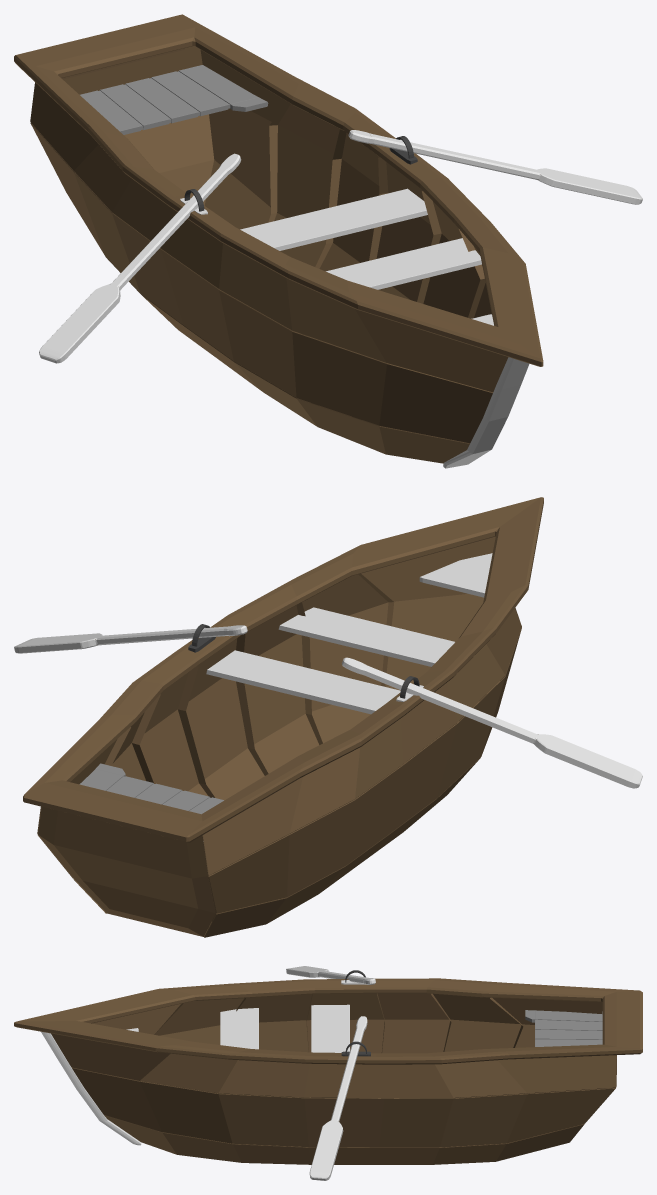
The model's file is Boat_Paddles.glb.
3 renders of one model, top to bottom at view 1: azimuth 30°, elevation 25°; view 2: azimuth 150°, elevation 25°; view 3: azimuth 270°, elevation 25°, orthographic. The views are drawn at different scales.
Parts seen in each view (by area): view 1: Boat Main Shape.007, Boat Top Edge.001, Boat Main Shape.005, Boat Main Shape.006, Cube.001, Boat Main Shape.004, Cube.011, Cube.006, Planks.001, Cube.007, Plane.001; view 2: Boat Main Shape.007, Boat Top Edge.001, Boat Main Shape.005, Boat Main Shape.006, Boat Back.001, Cube.011, Planks.001, Cube.006, Boat Main Shape.004, Cube.001, Cube.007, Front Plank.001; view 3: Boat Main Shape.005, Boat Top Edge.001, Boat Main Shape.006, Boat Main Shape.007, Boat Main Shape.004, Cube.001, Cube.007, Cube.011, Planks.001, Plane.001, Cube.006.
Boxes of the visible parts, box(x1,y1,x2,y2) form: Boat Main Shape.007: box(63, 47, 491, 318); Boat Top Edge.001: box(14, 14, 543, 366); Boat Main Shape.005: box(30, 122, 492, 443); Boat Main Shape.006: box(30, 82, 508, 392); Cube.001: box(80, 65, 268, 134); Boat Main Shape.004: box(106, 257, 469, 463); Cube.011: box(240, 188, 427, 250); Cube.006: box(39, 153, 241, 363); Planks.001: box(326, 238, 481, 289); Cube.007: box(348, 130, 642, 204); Plane.001: box(443, 357, 529, 468); Boat Main Shape.007: box(70, 536, 495, 936); Boat Top Edge.001: box(23, 497, 543, 842); Boat Main Shape.005: box(37, 628, 521, 913); Boat Main Shape.006: box(37, 608, 521, 875); Boat Back.001: box(38, 807, 215, 936); Cube.011: box(206, 650, 400, 714); Planks.001: box(278, 607, 454, 666); Cube.006: box(341, 657, 642, 788); Boat Main Shape.004: box(73, 757, 480, 937); Cube.001: box(79, 763, 223, 841); Cube.007: box(14, 625, 247, 653); Front Plank.001: box(419, 553, 492, 597); Boat Main Shape.005: box(72, 1067, 615, 1147); Boat Top Edge.001: box(14, 978, 642, 1064); Boat Main Shape.006: box(51, 1002, 616, 1098); Boat Main Shape.007: box(92, 993, 602, 1098); Boat Main Shape.004: box(104, 1115, 584, 1164); Cube.001: box(525, 1010, 602, 1046); Cube.007: box(309, 1016, 367, 1180); Cube.011: box(311, 1004, 349, 1052); Planks.001: box(220, 1008, 258, 1049); Plane.001: box(41, 1031, 141, 1145); Cube.006: box(286, 966, 375, 984).
Size of the model in its own units: 6.3 by 2.01 by 7.89.
